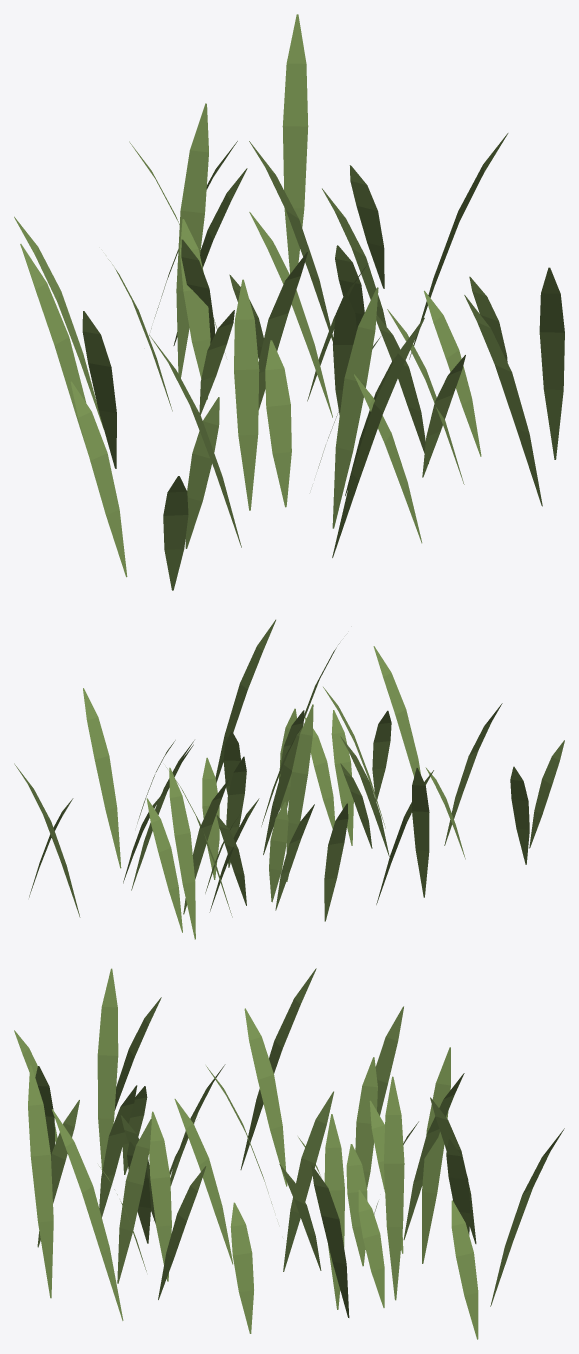
The model's file is short_grass_lod0.glb.
3 renders of one model, top to bottom at view 1: azimuth 30°, elevation 25°; view 2: azimuth 150°, elevation 25°; view 3: azimuth 270°, elevation 25°, orthographic. The views are drawn at different scales.
Parts seen in each view (by area): view 1: Leaves; view 2: Leaves; view 3: Leaves.
Boxes of the visible parts, bbox=[...] form: Leaves: bbox=[14, 14, 564, 590]; Leaves: bbox=[14, 619, 564, 939]; Leaves: bbox=[14, 968, 564, 1339].
Bounding box in the file's own units: 0.6062 × 0.2644 × 0.6664.
